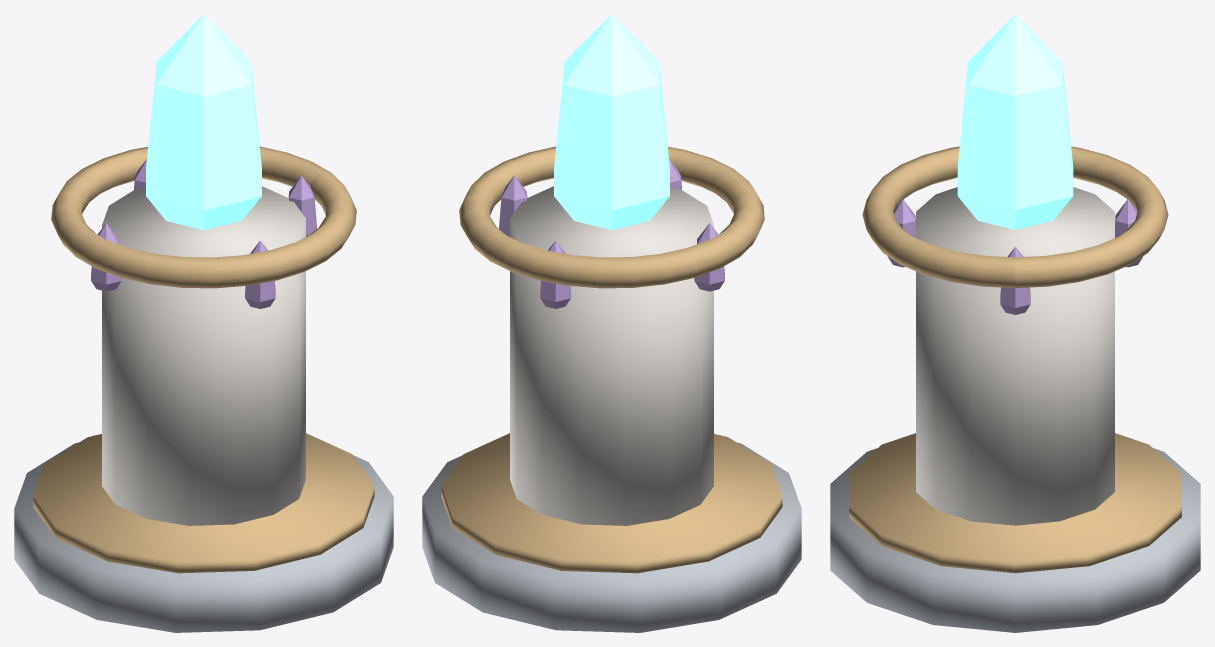
Rendered from int_tuning_plinth.glb.
3 views of the same model, side by side, from view 1: azimuth 30°, elevation 25°; view 2: azimuth 150°, elevation 25°; view 3: azimuth 270°, elevation 25° (orthographic).
Parts seen in each view (by area): view 1: INT_tuning_plinth_column, INT_tuning_plinth_base, INT_tuning_plinth_gold, INT_tuning_plinth_resonant_point, INT_tuning_plinth_collar, INT_tuning_plinth_corner_spark_0, INT_tuning_plinth_corner_spark_3, INT_tuning_plinth_corner_spark_2; view 2: INT_tuning_plinth_column, INT_tuning_plinth_base, INT_tuning_plinth_gold, INT_tuning_plinth_resonant_point, INT_tuning_plinth_collar, INT_tuning_plinth_corner_spark_0, INT_tuning_plinth_corner_spark_1, INT_tuning_plinth_corner_spark_2; view 3: INT_tuning_plinth_column, INT_tuning_plinth_base, INT_tuning_plinth_gold, INT_tuning_plinth_resonant_point, INT_tuning_plinth_collar, INT_tuning_plinth_corner_spark_0, INT_tuning_plinth_corner_spark_1, INT_tuning_plinth_corner_spark_3.
Boxes of the visible parts, x1,y1,x2,y2 form: INT_tuning_plinth_column: (102, 186, 305, 525); INT_tuning_plinth_base: (14, 442, 393, 632); INT_tuning_plinth_gold: (33, 433, 374, 573); INT_tuning_plinth_resonant_point: (146, 14, 261, 230); INT_tuning_plinth_collar: (51, 146, 356, 288); INT_tuning_plinth_corner_spark_0: (288, 175, 316, 236); INT_tuning_plinth_corner_spark_3: (245, 240, 275, 308); INT_tuning_plinth_corner_spark_2: (91, 223, 121, 291); INT_tuning_plinth_column: (510, 186, 713, 525); INT_tuning_plinth_base: (422, 442, 801, 632); INT_tuning_plinth_gold: (441, 433, 782, 573); INT_tuning_plinth_resonant_point: (554, 14, 669, 230); INT_tuning_plinth_collar: (459, 146, 764, 288); INT_tuning_plinth_corner_spark_0: (499, 175, 527, 236); INT_tuning_plinth_corner_spark_1: (540, 240, 570, 308); INT_tuning_plinth_corner_spark_2: (694, 223, 724, 291); INT_tuning_plinth_column: (916, 187, 1114, 525); INT_tuning_plinth_base: (830, 448, 1200, 632); INT_tuning_plinth_gold: (849, 433, 1181, 573); INT_tuning_plinth_resonant_point: (957, 14, 1073, 229); INT_tuning_plinth_collar: (862, 146, 1168, 288); INT_tuning_plinth_corner_spark_0: (1000, 246, 1030, 314); INT_tuning_plinth_corner_spark_1: (1115, 199, 1143, 267); INT_tuning_plinth_corner_spark_3: (887, 199, 915, 267).
Size of the model in its own units: 1.08 by 1.69 by 1.05.
